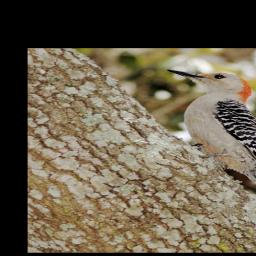Woodpecker: (163, 62, 256, 221)
